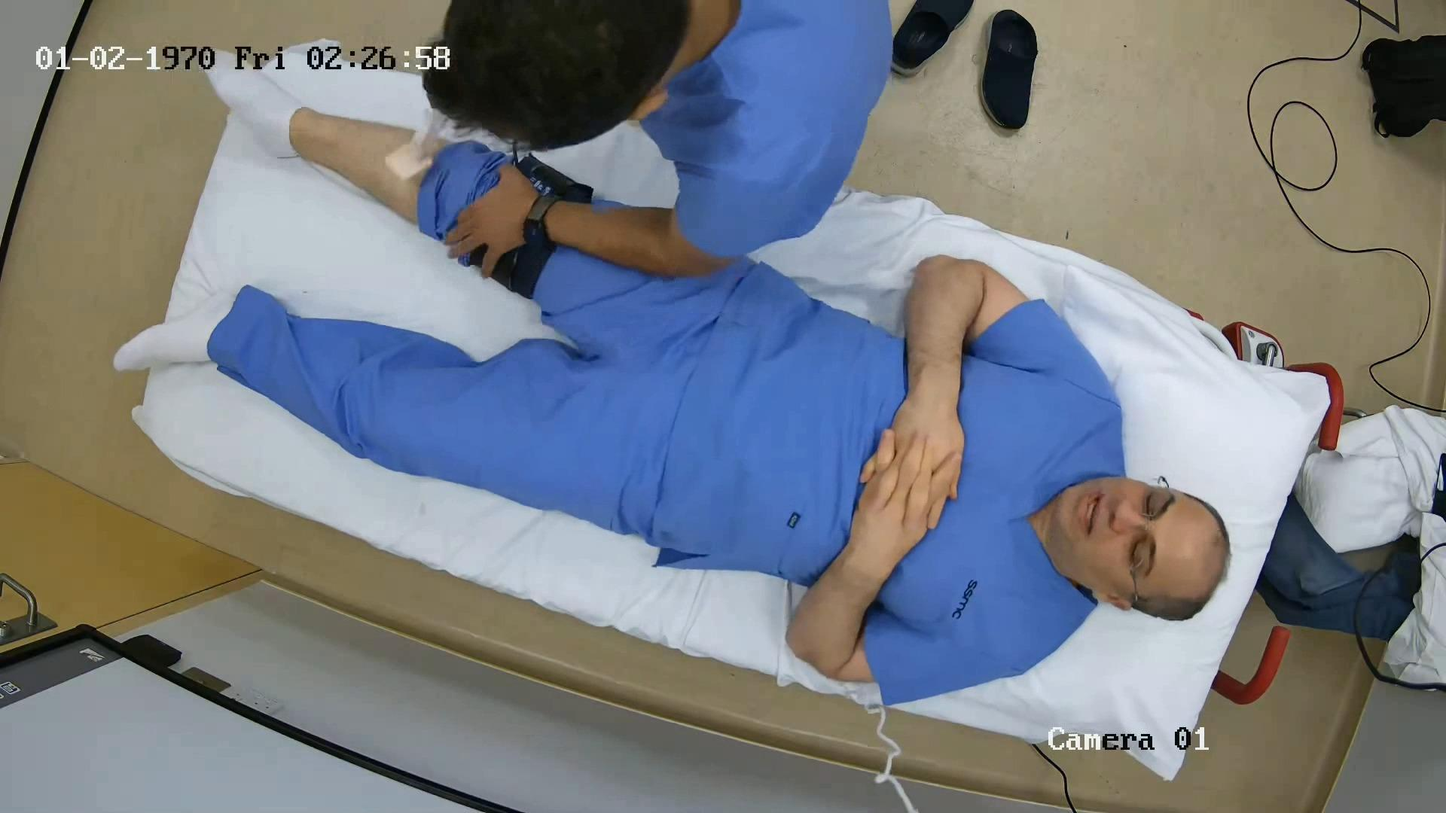bed: (133, 62, 1343, 783)
patient: (208, 113, 1226, 703)
prepstick: (386, 108, 456, 179)
